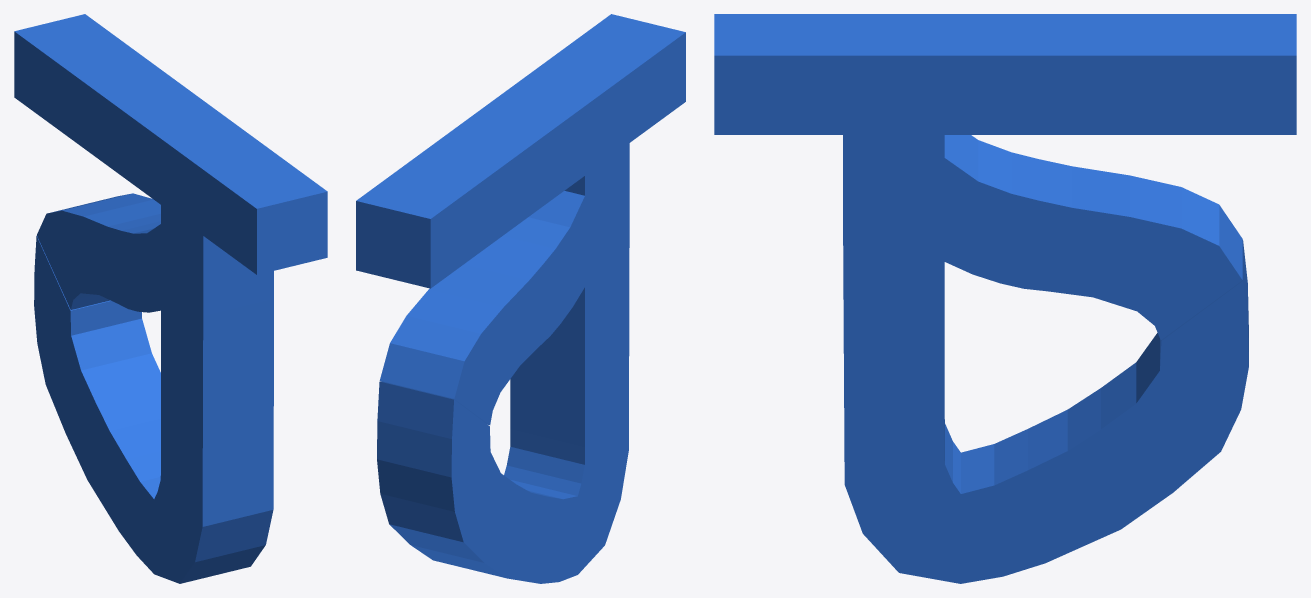
The picture shows the model from 3 angles, left to right: view 1: azimuth 30°, elevation 25°; view 2: azimuth 150°, elevation 25°; view 3: azimuth 270°, elevation 25°; orthographic projection. The views are drawn at different scales.
Visible parts, largest first — view 1: Cube; view 2: Cube; view 3: Cube.
Boxes of the visible parts, left/top/right/bottom form: Cube: left=14, top=14, right=327, bottom=583; Cube: left=356, top=14, right=685, bottom=583; Cube: left=714, top=14, right=1296, bottom=583.
Size of the model in its own units: 200 by 1187 by 1185.
